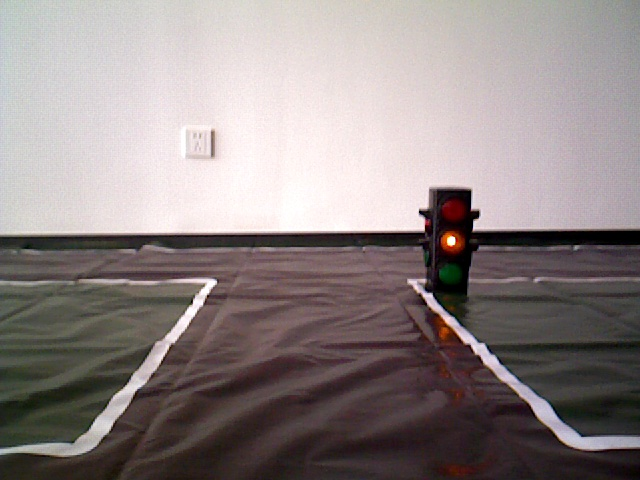yellow: (429, 186, 470, 291)
